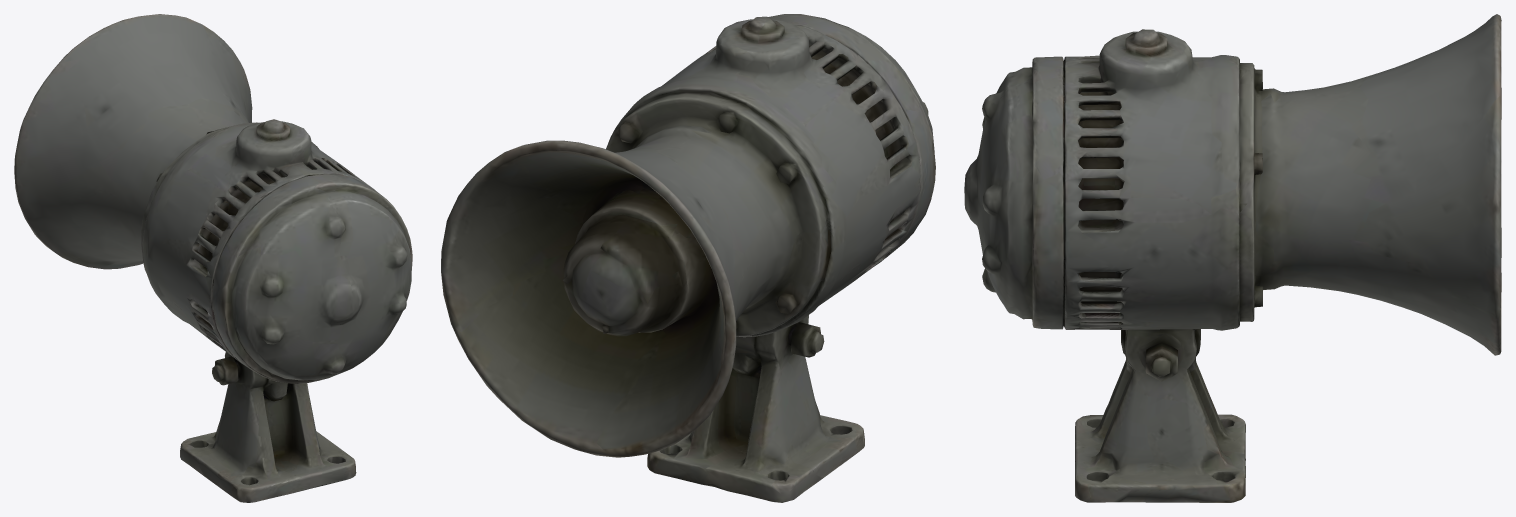
The model's file is prop_siren.glb.
3 views of the same model, side by side, from view 1: azimuth 30°, elevation 25°; view 2: azimuth 150°, elevation 25°; view 3: azimuth 270°, elevation 25° (orthographic). The views are drawn at different scales.
Visible parts, largest first — view 1: tripo_node_725c6aa8-4246-4a92-8a96-1d67c53a6127; view 2: tripo_node_725c6aa8-4246-4a92-8a96-1d67c53a6127; view 3: tripo_node_725c6aa8-4246-4a92-8a96-1d67c53a6127.
Boxes of the visible parts, left/top/right/bottom form: tripo_node_725c6aa8-4246-4a92-8a96-1d67c53a6127: left=14, top=14, right=412, bottom=502; tripo_node_725c6aa8-4246-4a92-8a96-1d67c53a6127: left=441, top=14, right=935, bottom=502; tripo_node_725c6aa8-4246-4a92-8a96-1d67c53a6127: left=964, top=14, right=1501, bottom=502.
Size of the model in its own units: 0.6367 by 0.899 by 1.
1 material, 1 textured.
